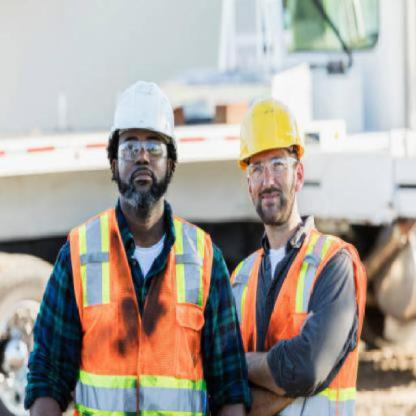glass: (242, 154, 298, 182), (111, 138, 169, 164)
person: (22, 74, 247, 416), (225, 89, 368, 415)
vest-helm: (62, 218, 217, 416), (227, 228, 364, 416)
white-helm: (100, 78, 184, 147)
yellow-helm: (234, 94, 310, 166)
